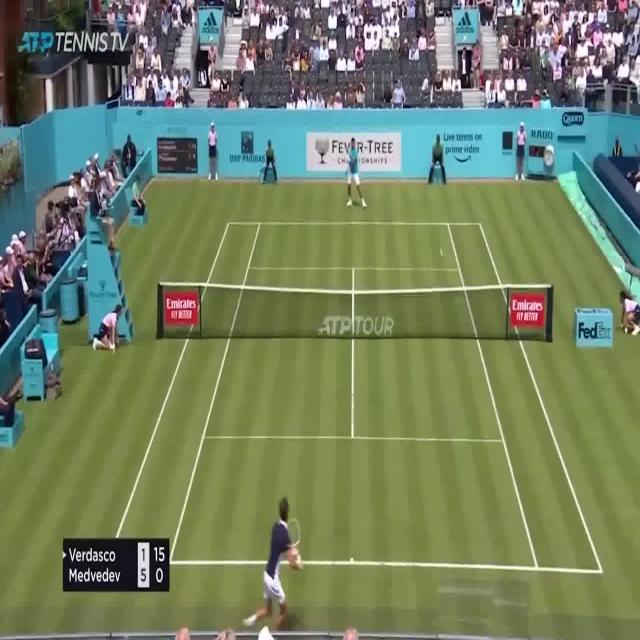bottom-dead-zone: (170, 437, 538, 570)
court: (108, 222, 603, 573)
left-doubles-alley: (109, 223, 260, 561)
left-service-box: (203, 267, 354, 438)
net: (155, 277, 557, 346)
right-doubles-alley: (448, 224, 603, 572)
right-service-box: (352, 269, 504, 442)
top-dead-zone: (247, 222, 461, 271)
